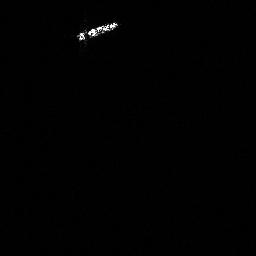ship: (73, 18, 121, 45)
